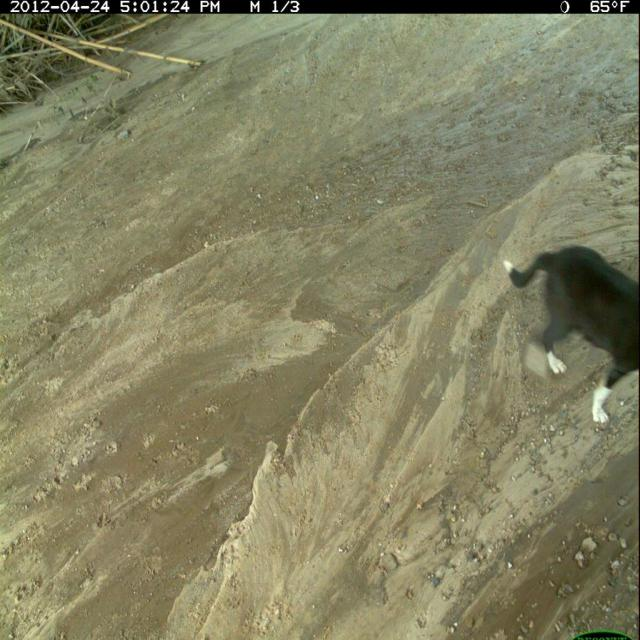dog: (503, 242, 640, 429)
